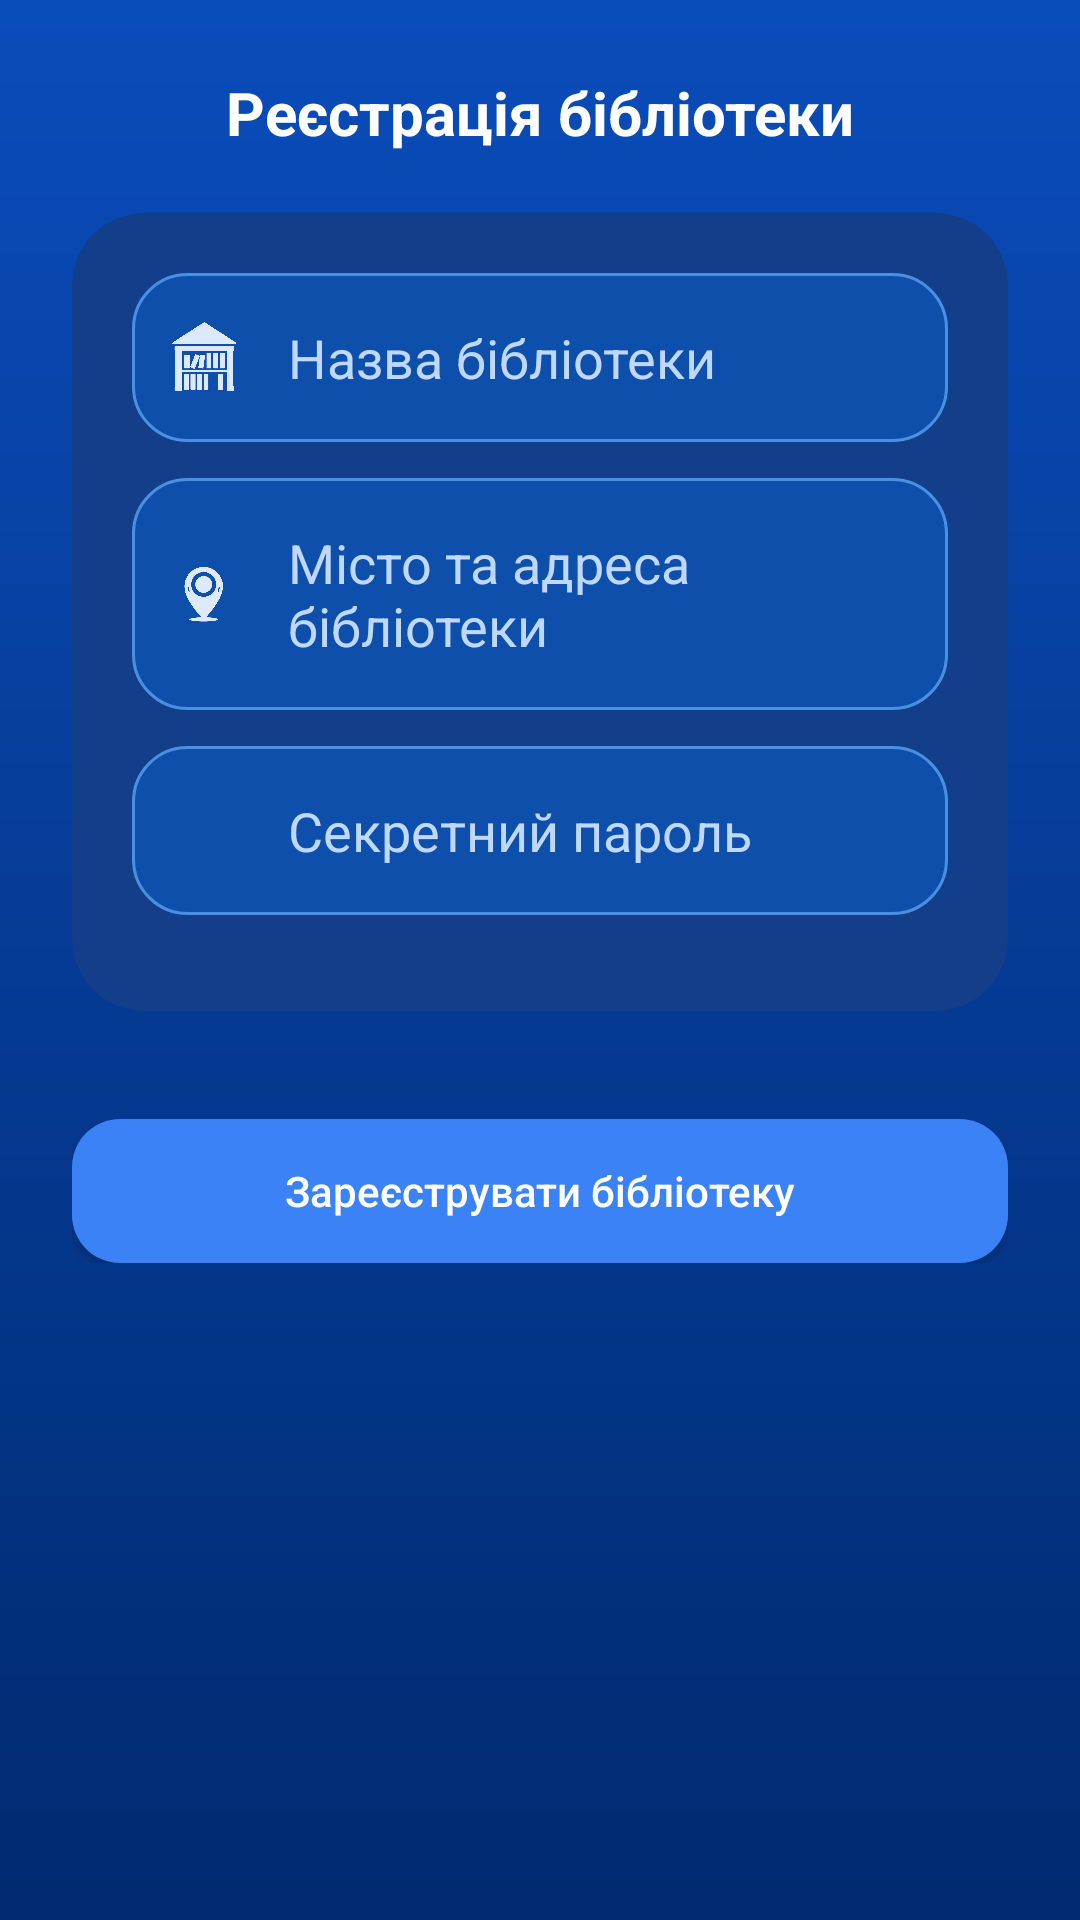

Where icons sit on this 1080×1920 app screen, as (x1, y1, x2, y2):
library: (172, 322, 236, 391)
location: (184, 567, 223, 622)
